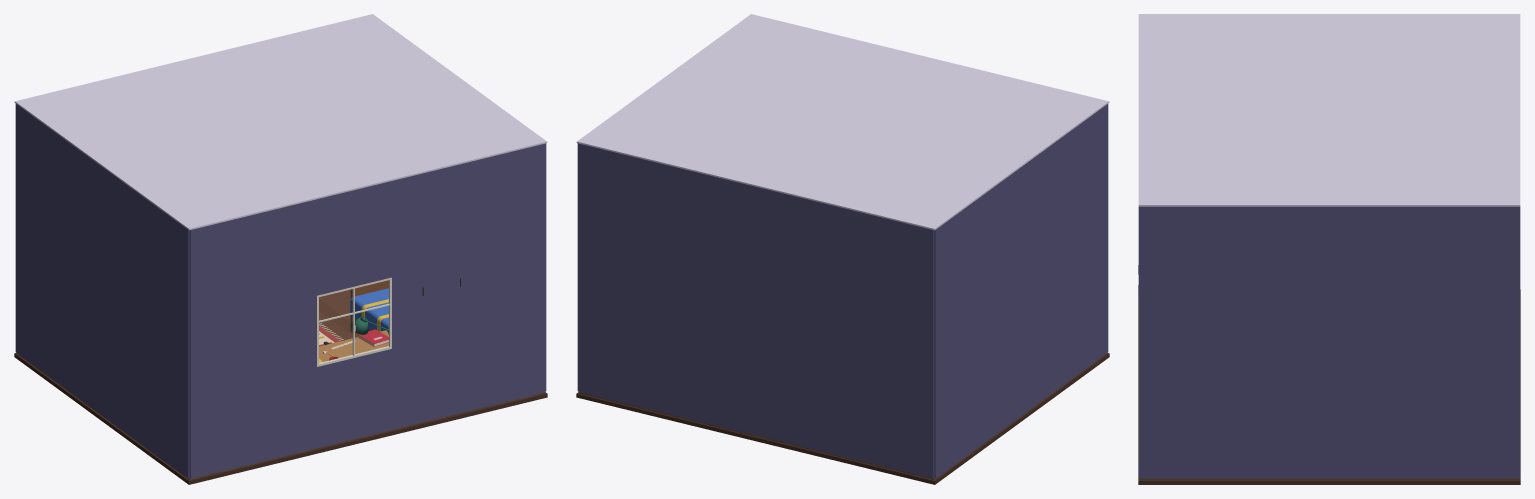
The model's file is SchoolRoom.fbx.
The picture shows the model from 3 angles, left to right: view 1: azimuth 30°, elevation 25°; view 2: azimuth 150°, elevation 25°; view 3: azimuth 270°, elevation 25°; orthographic projection. The views are drawn at different scales.
Visible parts, largest first — view 1: Ceiling__d9d4e8, WallRight__5a5680, WallBackL__5a5680, WallBackR__5a5680, WallBackTop__5a5680, WallBackLow__5a5680, FloorBase__4a3328, Blanket__4b7bd1, DeskTop__b98a5a; view 2: WallFront__5a5680, Ceiling__d9d4e8, WallRight__5a5680, FloorBase__4a3328; view 3: WallLeft__5a5680, Ceiling__d9d4e8, FloorBase__4a3328, WallBackL__5a5680, WallFront__5a5680, FloorBoard0__654636.
Boxes of the visible parts, x1=… form: Ceiling__d9d4e8: x1=14, y1=14, x2=547, y2=230; WallRight__5a5680: x1=15, y1=104, x2=189, y2=478; WallBackL__5a5680: x1=392, y1=143, x2=545, y2=429; WallBackR__5a5680: x1=189, y1=199, x2=316, y2=478; WallBackTop__5a5680: x1=317, y1=181, x2=391, y2=295; WallBackLow__5a5680: x1=317, y1=349, x2=391, y2=447; FloorBase__4a3328: x1=14, y1=353, x2=547, y2=484; Blanket__4b7bd1: x1=350, y1=288, x2=388, y2=331; DeskTop__b98a5a: x1=319, y1=330, x2=388, y2=361; WallFront__5a5680: x1=578, y1=143, x2=934, y2=478; Ceiling__d9d4e8: x1=576, y1=14, x2=1109, y2=230; WallRight__5a5680: x1=934, y1=104, x2=1108, y2=478; FloorBase__4a3328: x1=576, y1=353, x2=1109, y2=484; WallLeft__5a5680: x1=1140, y1=206, x2=1518, y2=478; Ceiling__d9d4e8: x1=1138, y1=14, x2=1520, y2=206; FloorBase__4a3328: x1=1138, y1=289, x2=1520, y2=484; WallBackL__5a5680: x1=1138, y1=206, x2=1140, y2=477; WallFront__5a5680: x1=1518, y1=206, x2=1520, y2=477; FloorBoard0__654636: x1=1140, y1=478, x2=1518, y2=479.
Bounding box in the file's own units: 404 × 275 × 341.
